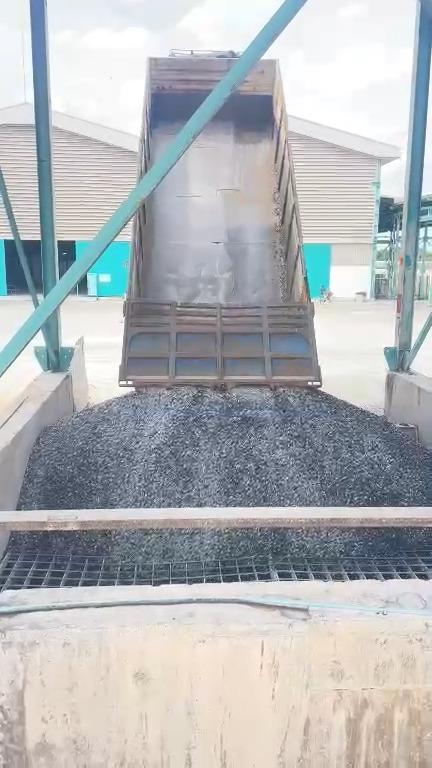gravel: (19, 388, 432, 509), (10, 527, 432, 562)
